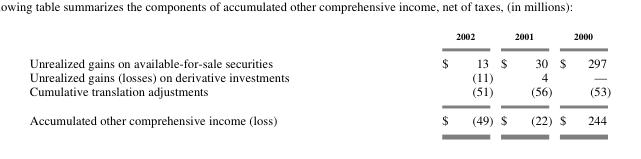table: (28, 28, 610, 127)
table column: (28, 28, 364, 127), (364, 28, 496, 127), (496, 28, 555, 127), (555, 28, 610, 127)
table column header: (28, 28, 610, 48)
table row: (28, 104, 610, 127), (28, 48, 610, 69), (28, 83, 610, 104), (28, 28, 610, 48), (28, 69, 610, 83)
